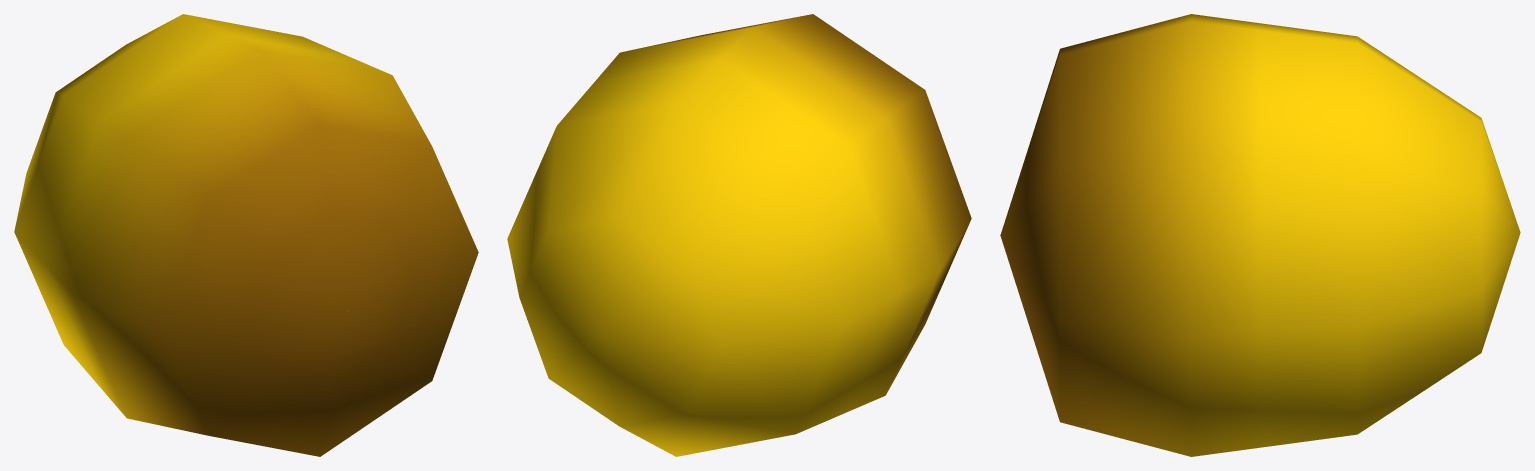
File: egg.fbx
3 renders of one model, left to right at view 1: azimuth 30°, elevation 25°; view 2: azimuth 150°, elevation 25°; view 3: azimuth 270°, elevation 25°, orthographic. The views are drawn at different scales.
Visible parts, largest first — view 1: Egg; view 2: Egg; view 3: Egg.
Boxes of the visible parts, x1=… form: Egg: x1=14, y1=14, x2=478, y2=456; Egg: x1=507, y1=14, x2=971, y2=456; Egg: x1=1000, y1=14, x2=1520, y2=456.
Bounding box in the file's own units: 237 × 237 × 262.
1 material, 1 textured.
